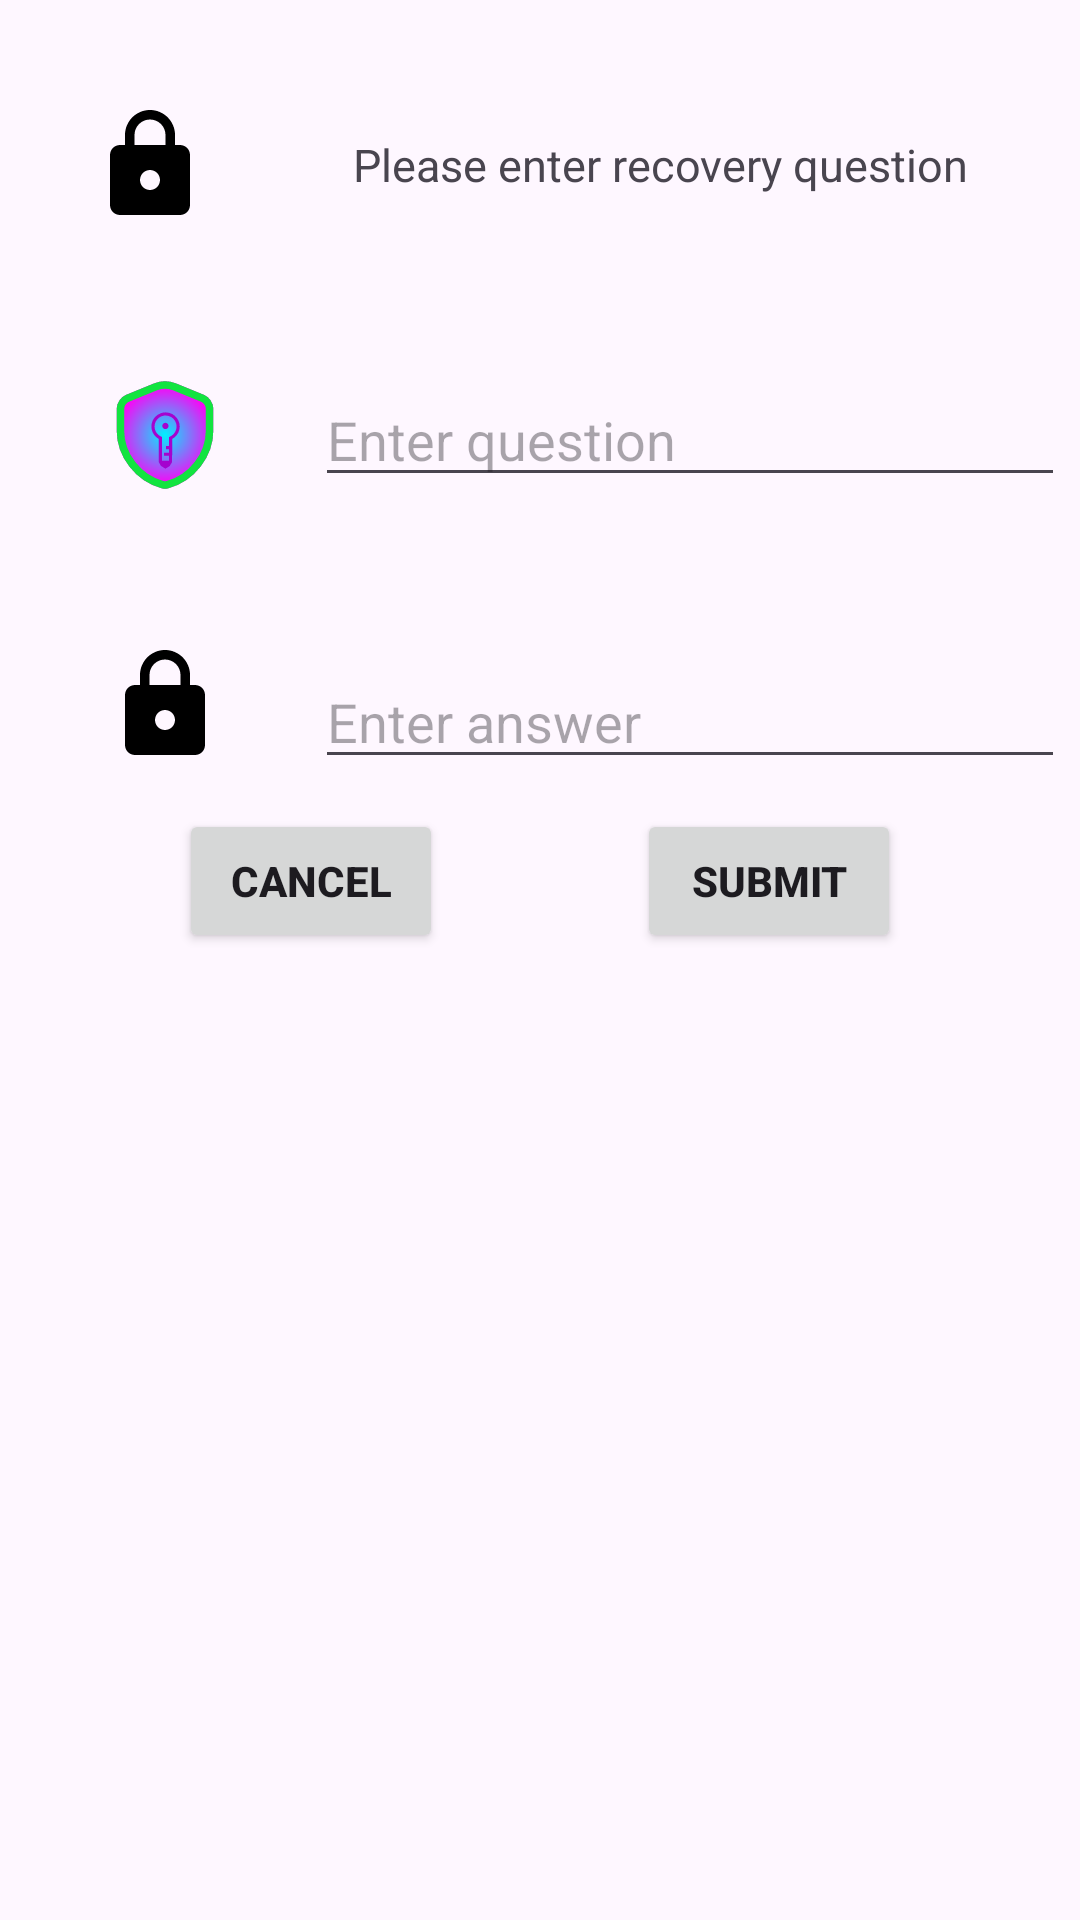

Point at icon controls on the screen. Image size 1080×1920, points as (x=x, y=y).
lock: (x=150, y=162), (x=165, y=702)
